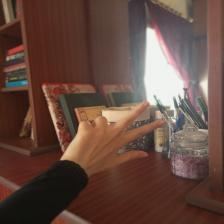three: (46, 97, 175, 189)
